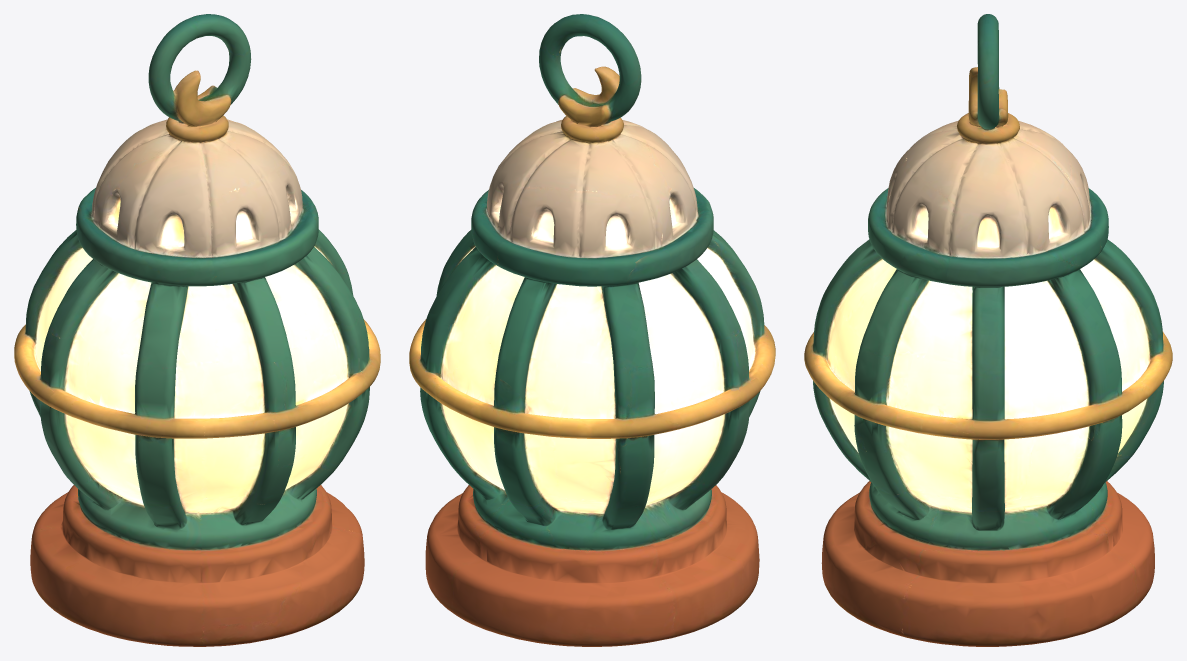
File: minaret.glb
3 renders of one model, left to right at view 1: azimuth 30°, elevation 25°; view 2: azimuth 150°, elevation 25°; view 3: azimuth 270°, elevation 25°, orthographic.
Size of the model in its own units: 1.12 by 1.9 by 1.12.
Materials: 1 (1 with a texture image).
